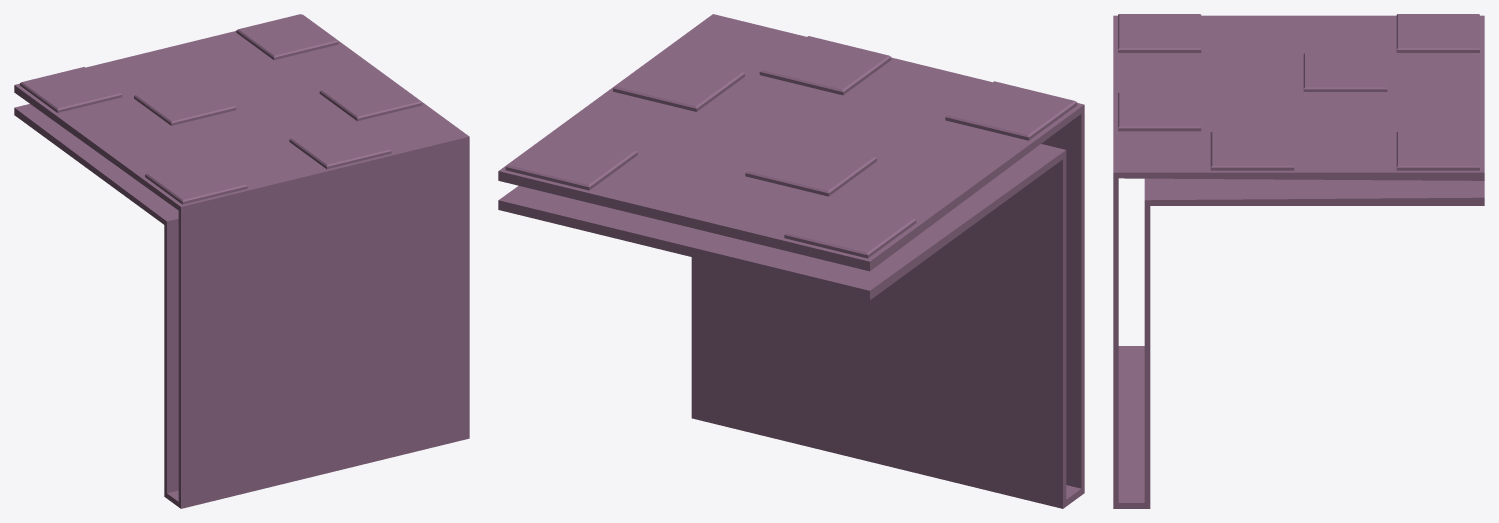
File: Dungeon_Floor_A.fbx
3 renders of one model, left to right at view 1: azimuth 30°, elevation 25°; view 2: azimuth 150°, elevation 25°; view 3: azimuth 270°, elevation 25°, orthographic. The views are drawn at different scales.
Parts seen in each view (by area): view 1: Ground.1; view 2: Ground.1; view 3: Ground.1.
Boxes of the visible parts, x1,y1,x2,y2 form: Ground.1: [14, 14, 469, 508]; Ground.1: [498, 14, 1084, 508]; Ground.1: [1113, 14, 1484, 508].
Bounding box in the file's own units: 4 × 4.05 × 4.
